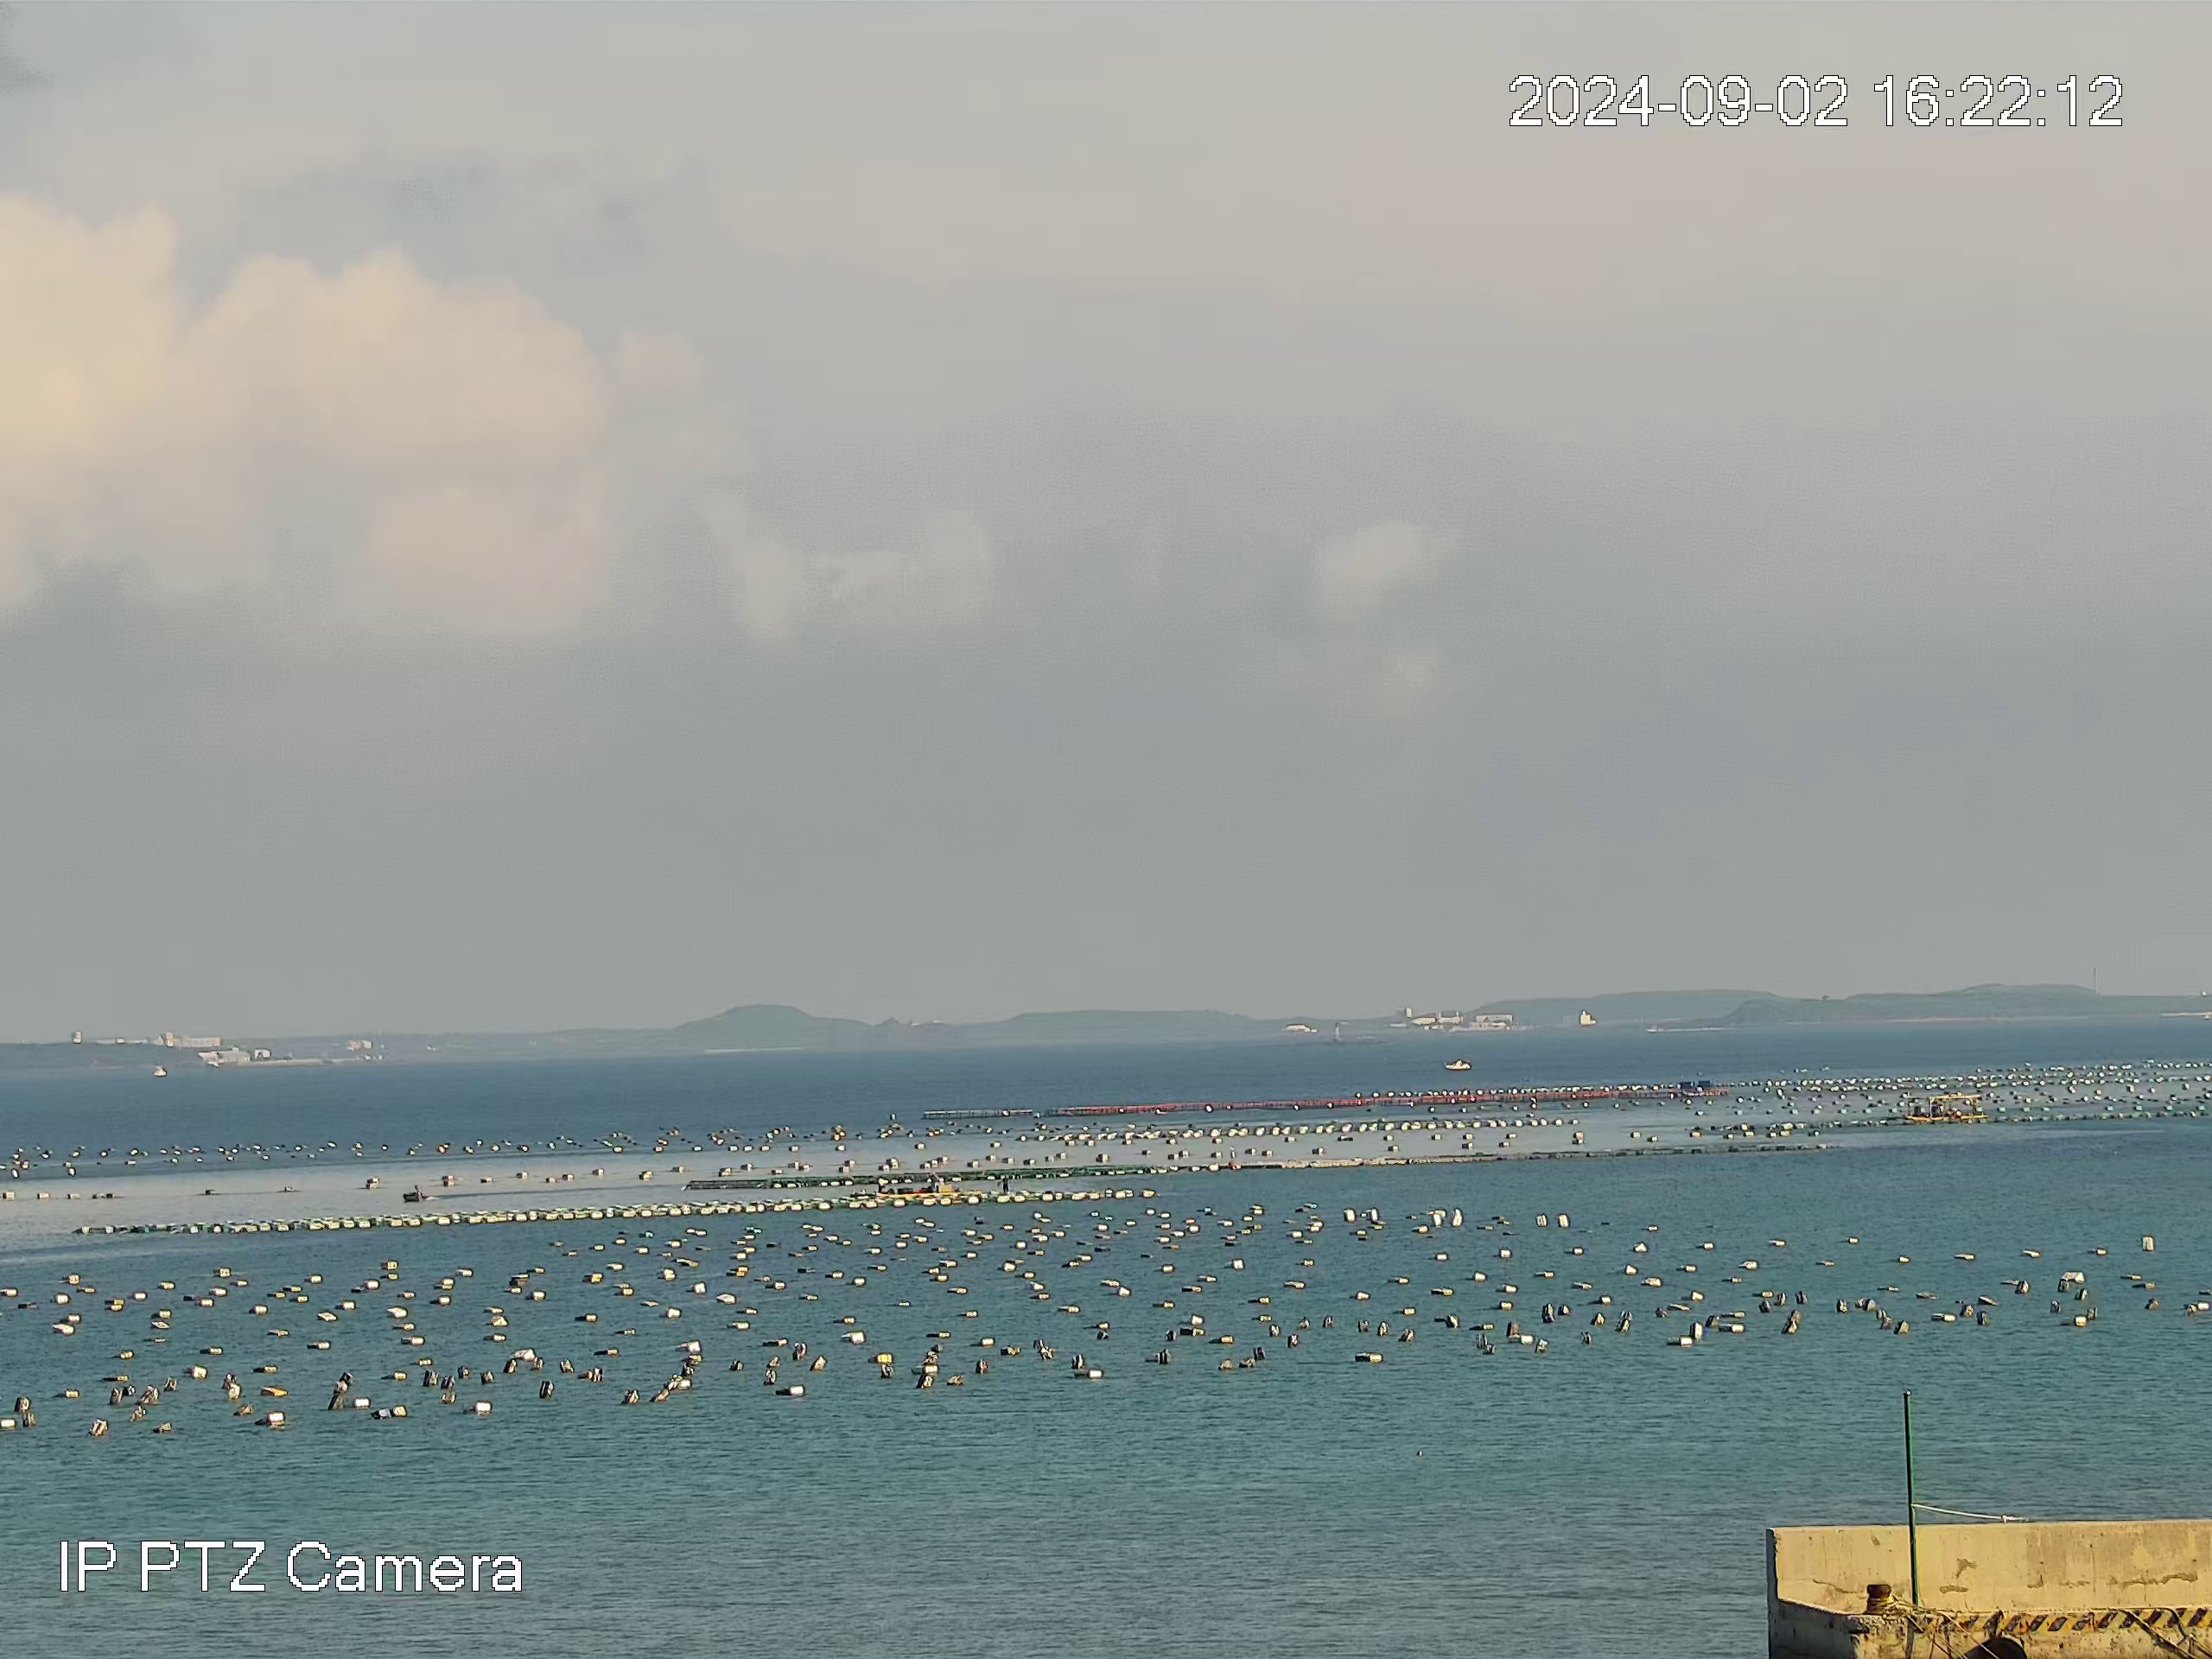boat: (1904, 1094, 1989, 1126), (874, 1176, 961, 1199), (402, 1185, 430, 1204), (1442, 1056, 1472, 1072)
